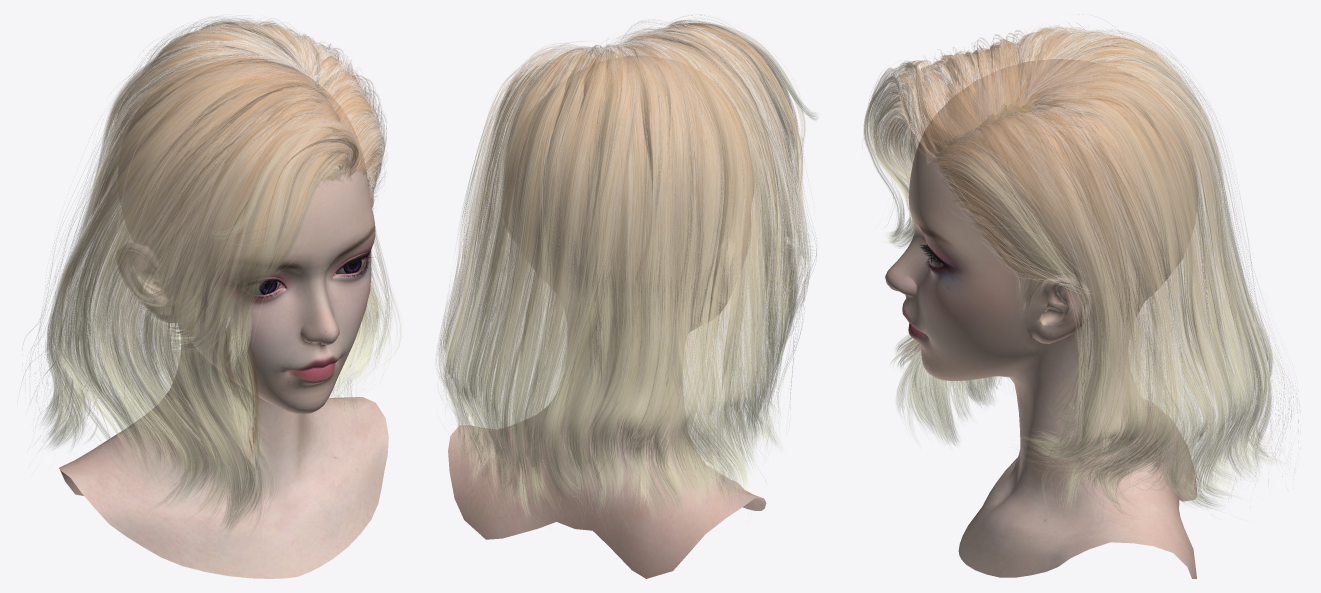
The model's file is woman_head.glb.
3 renders of one model, left to right at view 1: azimuth 30°, elevation 25°; view 2: azimuth 150°, elevation 25°; view 3: azimuth 270°, elevation 25°, orthographic. The views are drawn at different scales.
Visible parts, largest first — view 1: Hair_mush, Face_mush; view 2: Hair_mush, Face_mush; view 3: Hair_mush, Face_mush.
Boxes of the visible parts, x1=… form: Hair_mush: x1=22, y1=16, x2=401, y2=532; Face_mush: x1=59, y1=58, x2=388, y2=578; Hair_mush: x1=435, y1=14, x2=817, y2=520; Face_mush: x1=448, y1=55, x2=766, y2=578; Hair_mush: x1=862, y1=14, x2=1300, y2=515; Face_mush: x1=885, y1=59, x2=1198, y2=578.
Size of the model in its own units: 0.2728 by 0.3787 by 0.2996.
18 materials, 18 textured.
